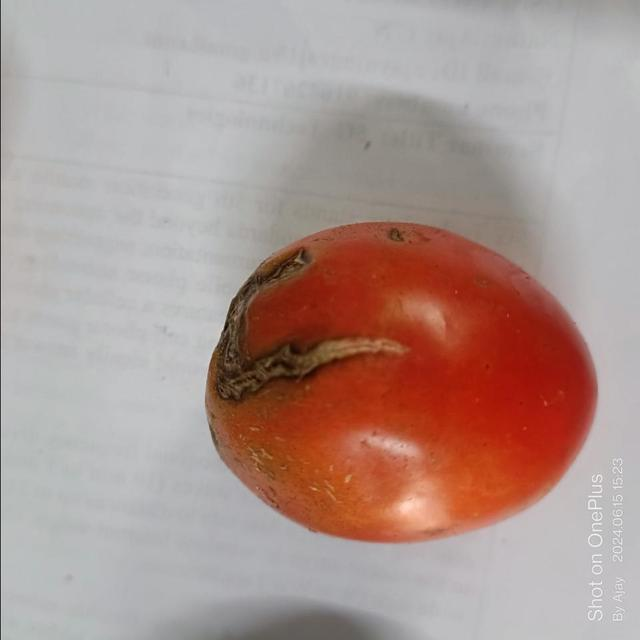Cracking Fruit: (111, 98, 312, 259)
